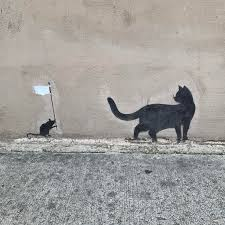cat: (104, 84, 196, 144)
